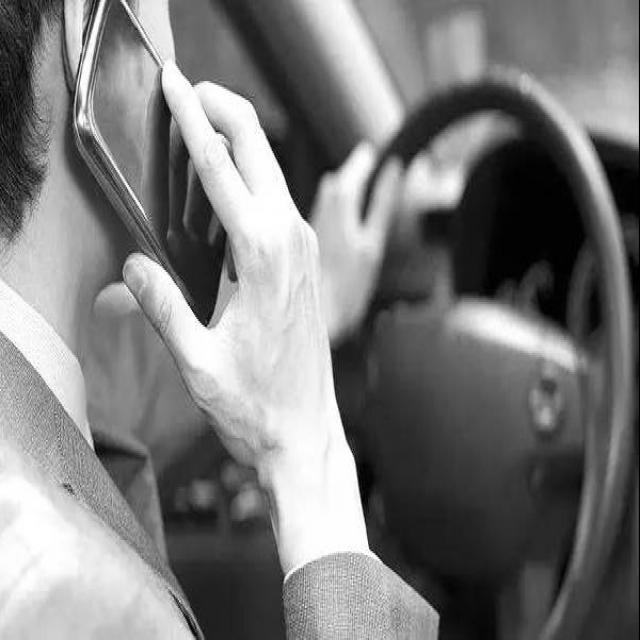phone: (64, 0, 333, 468)
